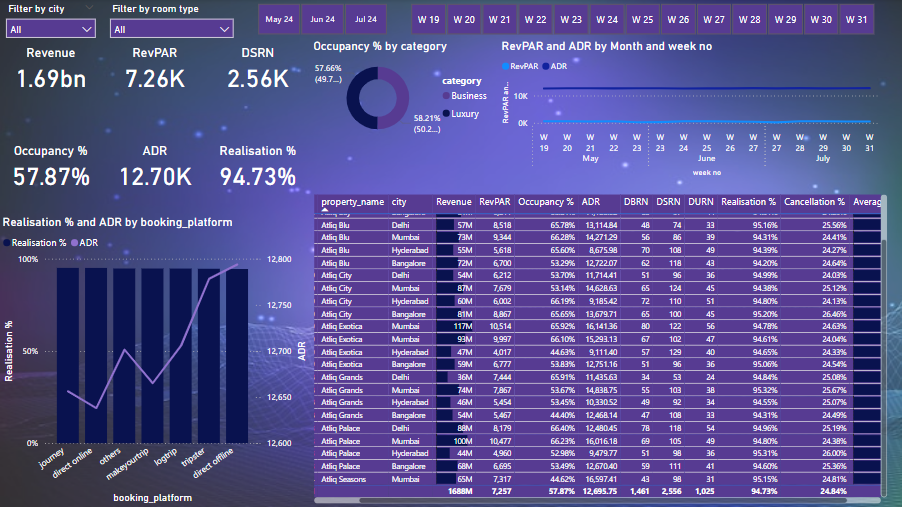

The dashboard page shown, as its layout file describes it:
{"tool":"powerbi","page":{"name":"page 1","canvas":[1280,720],"ordinal":0},"visuals":[{"type":"tableEx","fields":{"Values":["dim_hotels.property_id","dim_hotels.property_name","dim_hotels.city","key_measures.Revenue","key_measures.RevPAR","key_measures.Occupancy %","key_measures.ADR","key_measures.DBRN","key_measures.DSRN","key_measures.DURN","key_measures.Realisation %","key_measures.Cacellation %"]},"box":[440.8,272.1,823.5,447.9],"z":0},{"type":"slicer","fields":{"Values":["dim_rooms.room_class"]},"box":[146.9,0,195.1,56.8],"z":1000},{"type":"slicer","fields":{"Values":["dim_date.mmm yy"]},"box":[341.6,0,232.4,56.7],"z":2000},{"type":"slicer","fields":{"Values":["dim_date.week no"]},"box":[558.4,0,705.8,56.7],"z":3000},{"type":"card","title":"Revenue","fields":{"Values":["key_measures.Revenue"]},"box":[0,64.8,146.9,67.7],"z":4000},{"type":"donutChart","fields":{"Category":["dim_hotels.category"],"Y":["key_measures.Occupancy %"]},"box":[440.6,56.2,266.4,148.3],"z":5000},{"type":"card","title":"RevPAR","fields":{"Values":["key_measures.RevPAR"]},"box":[146.9,64.8,146.9,67.7],"z":6000},{"type":"card","title":"DSRN","fields":{"Values":["key_measures.DSRN"]},"box":[293.8,64.8,146.9,67.7],"z":7000},{"type":"card","title":"Occupancy %","fields":{"Values":["key_measures.Occupancy %"]},"box":[0,204.5,146.9,67.7],"z":8000},{"type":"card","title":"ADR","fields":{"Values":["key_measures.ADR"]},"box":[146.9,204.5,146.9,67.7],"z":9000},{"type":"card","title":"Realisation %","fields":{"Values":["key_measures.Realisation %"]},"box":[293.8,204.5,146.9,67.7],"z":10000},{"type":"slicer","fields":{"Values":["dim_hotels.city"]},"box":[0,0,147.4,56.7],"z":13000},{"type":"lineChart","fields":{"Category":["dim_date.mmm yy.Variation.Date Hierarchy.Month","dim_date.week no"],"Y":["key_measures.RevPAR","key_measures.ADR"]},"box":[707.2,56.7,547.1,199.8],"z":13001},{"type":"lineStackedColumnComboChart","fields":{"Category":["fact_bookings.booking_platform"],"Y":["key_measures.Realisation %"],"Y2":["key_measures.ADR"]},"box":[0,306.1,440.8,413.9],"z":13002}]}

Visuals, with their boxes in screenshot pixels (x1, y1, x2, y2), scaled from the page's 1280x720 canvas onto the 902x507 screenshot:
tableEx - dim_hotels.property_id x dim_hotels.property_name: detection(311, 192, 891, 506)
slicer - dim_rooms.room_class: detection(104, 0, 241, 40)
slicer - dim_date.mmm yy: detection(241, 0, 404, 40)
slicer - dim_date.week no: detection(393, 0, 891, 40)
"Revenue" card: detection(0, 46, 104, 93)
donutChart - dim_hotels.category x key_measures.Occupancy %: detection(310, 40, 498, 144)
"RevPAR" card: detection(104, 46, 207, 93)
"DSRN" card: detection(207, 46, 311, 93)
"Occupancy %" card: detection(0, 144, 104, 192)
"ADR" card: detection(104, 144, 207, 192)
"Realisation %" card: detection(207, 144, 311, 192)
slicer - dim_hotels.city: detection(0, 0, 104, 40)
lineChart - dim_date.mmm yy.Variation.Date Hierarchy.Month x dim_date.week no: detection(498, 40, 884, 181)
lineStackedColumnComboChart - fact_bookings.booking_platform x key_measures.Realisation %: detection(0, 216, 311, 506)
